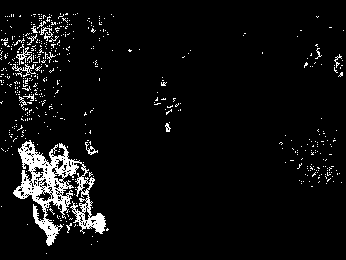person: (52, 139, 107, 259), (8, 140, 52, 258)
